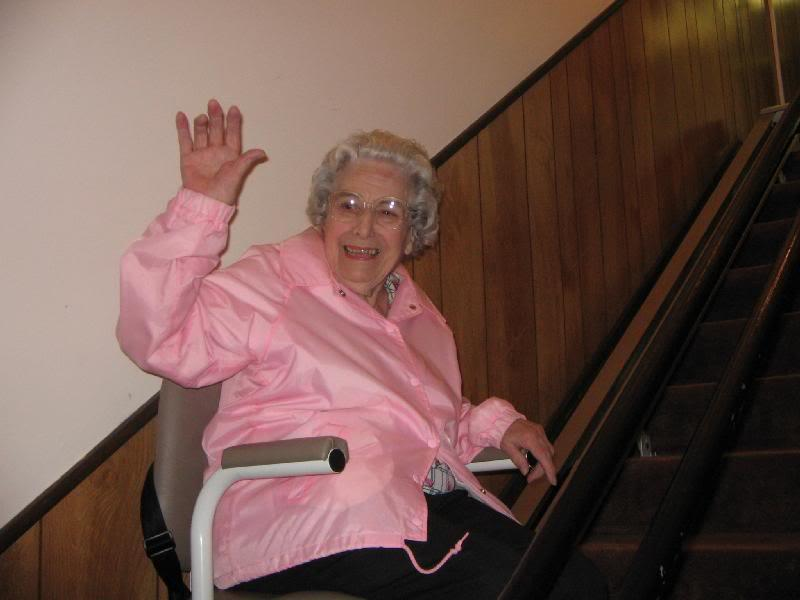person: (121, 98, 560, 600)
